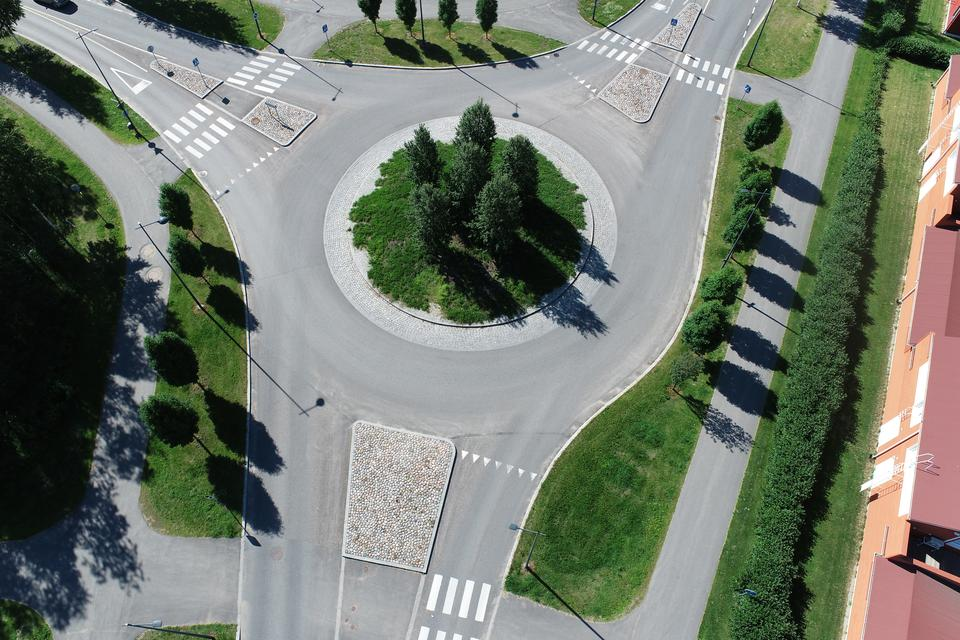intersection: (167, 517, 705, 640)
roundabout: (224, 0, 730, 408)
